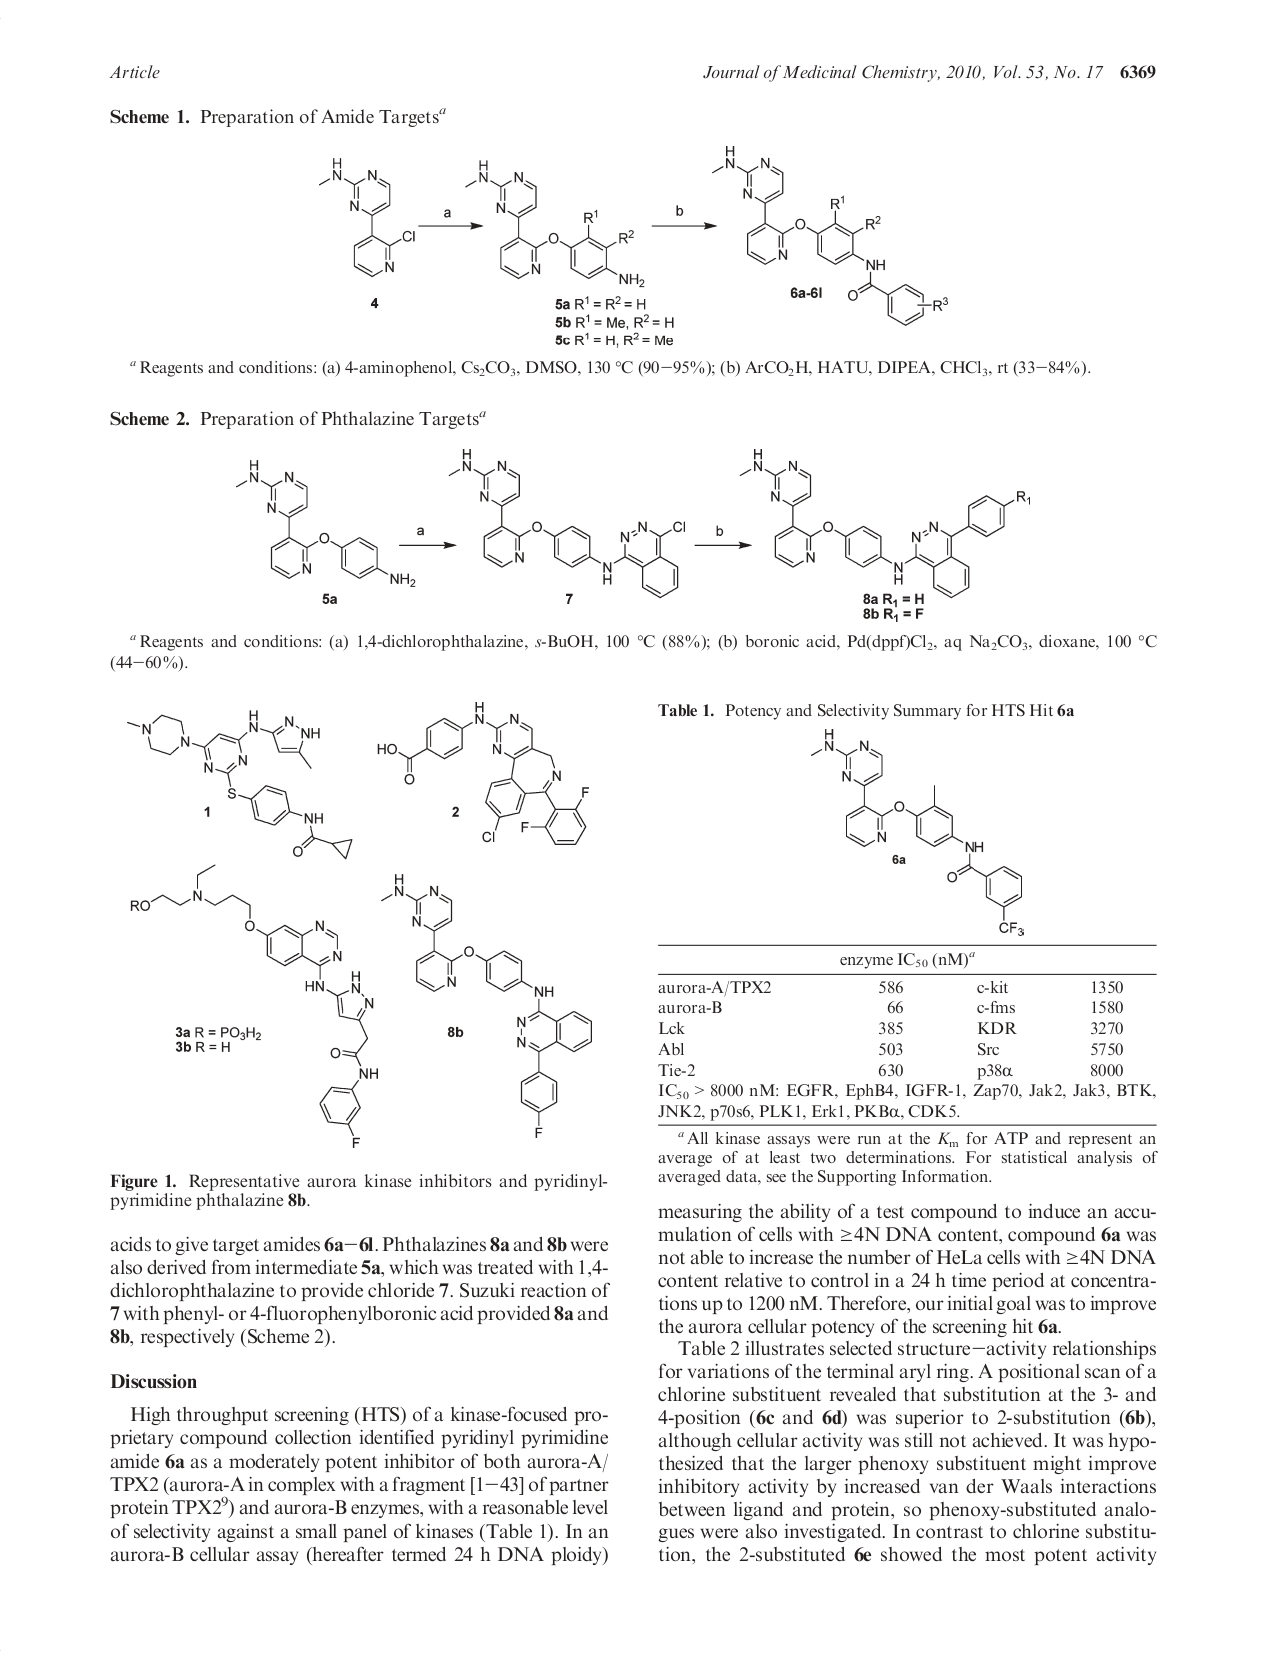exist_molecular: (129, 863, 382, 1153), (379, 864, 594, 1141), (810, 727, 1027, 938), (739, 446, 1031, 598), (714, 144, 949, 327), (445, 444, 690, 600), (122, 707, 356, 863), (376, 696, 593, 848), (233, 455, 420, 588), (464, 158, 648, 290), (316, 154, 419, 277)
